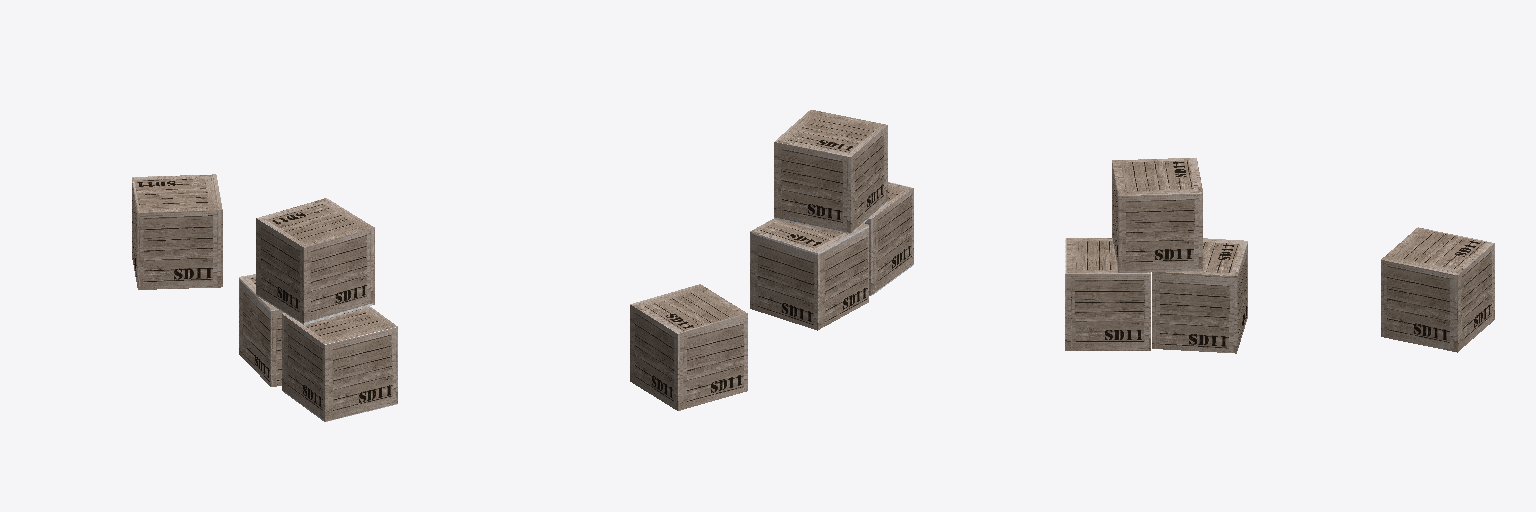
3 renders of one model, left to right at view 1: azimuth 30°, elevation 25°; view 2: azimuth 150°, elevation 25°; view 3: azimuth 270°, elevation 25°, orthographic.
Parts seen in each view (by area): view 1: Cube.012_Cube.062; view 2: Cube.012_Cube.062; view 3: Cube.012_Cube.062.
Part boxes in pixels (x1,y1,x2,y2): Cube.012_Cube.062: (132, 174, 397, 421); Cube.012_Cube.062: (630, 110, 913, 410); Cube.012_Cube.062: (1065, 158, 1494, 353).
Size of the model in its own units: 1.2 by 1.82 by 4.51.
Materials: 1 (1 with a texture image).